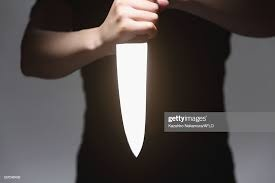knife: (114, 1, 148, 158)
